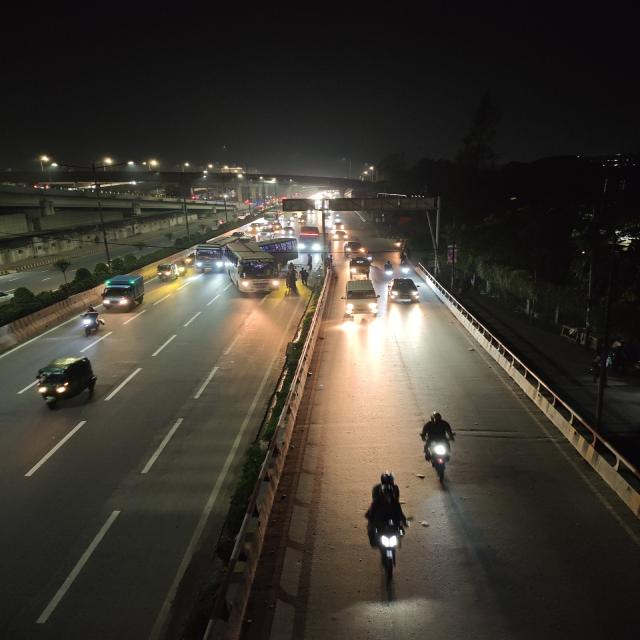bus: (225, 248, 283, 296), (194, 241, 228, 275), (297, 225, 325, 253)
car: (342, 277, 381, 319), (387, 276, 422, 306), (297, 224, 324, 254), (340, 238, 369, 256)
cng: (29, 353, 102, 416), (98, 274, 147, 314), (154, 260, 181, 282), (283, 225, 296, 238)
motorcycle: (354, 468, 416, 585), (414, 408, 462, 488), (75, 305, 108, 338), (381, 261, 396, 281)
pedestrian: (298, 266, 310, 284)
pickup_van: (346, 257, 371, 280)
truck: (98, 274, 147, 314)
